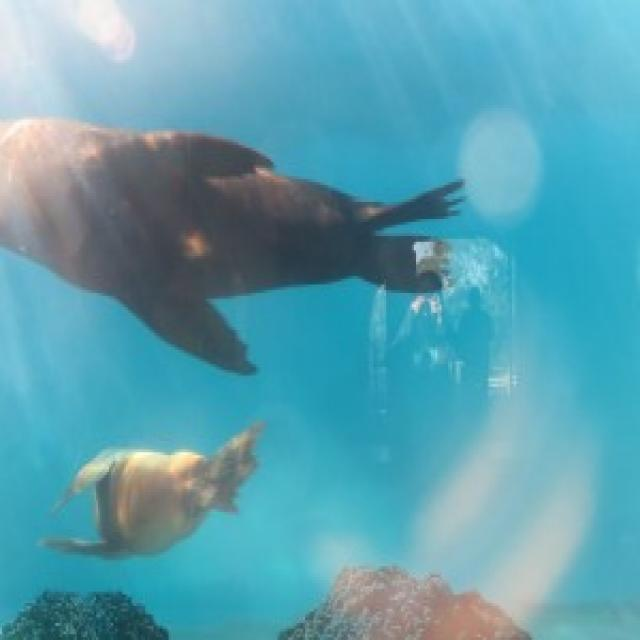Seal: (0, 97, 461, 376), (41, 414, 282, 576)
